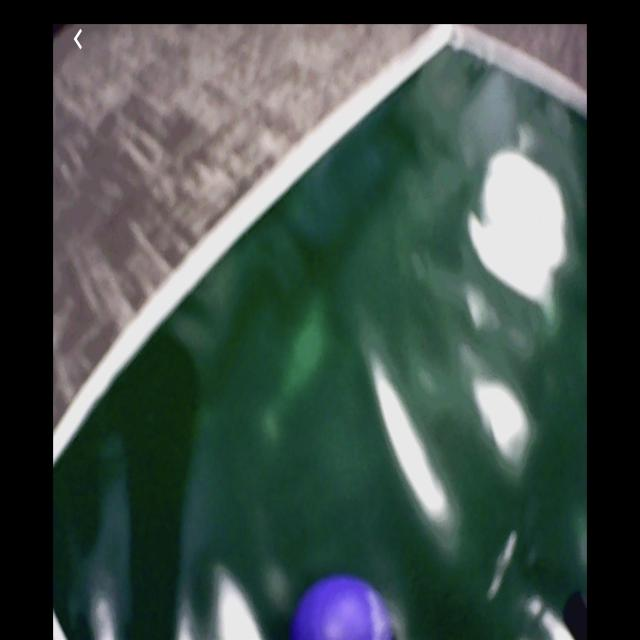ball: (294, 576, 392, 640)
